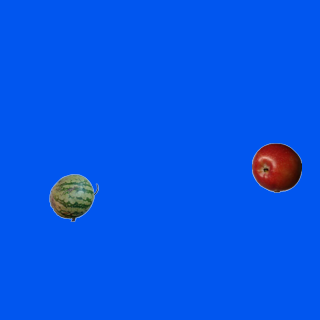Apple Braeburn: (251, 142, 301, 192)
Watermelon: (48, 172, 98, 222)
